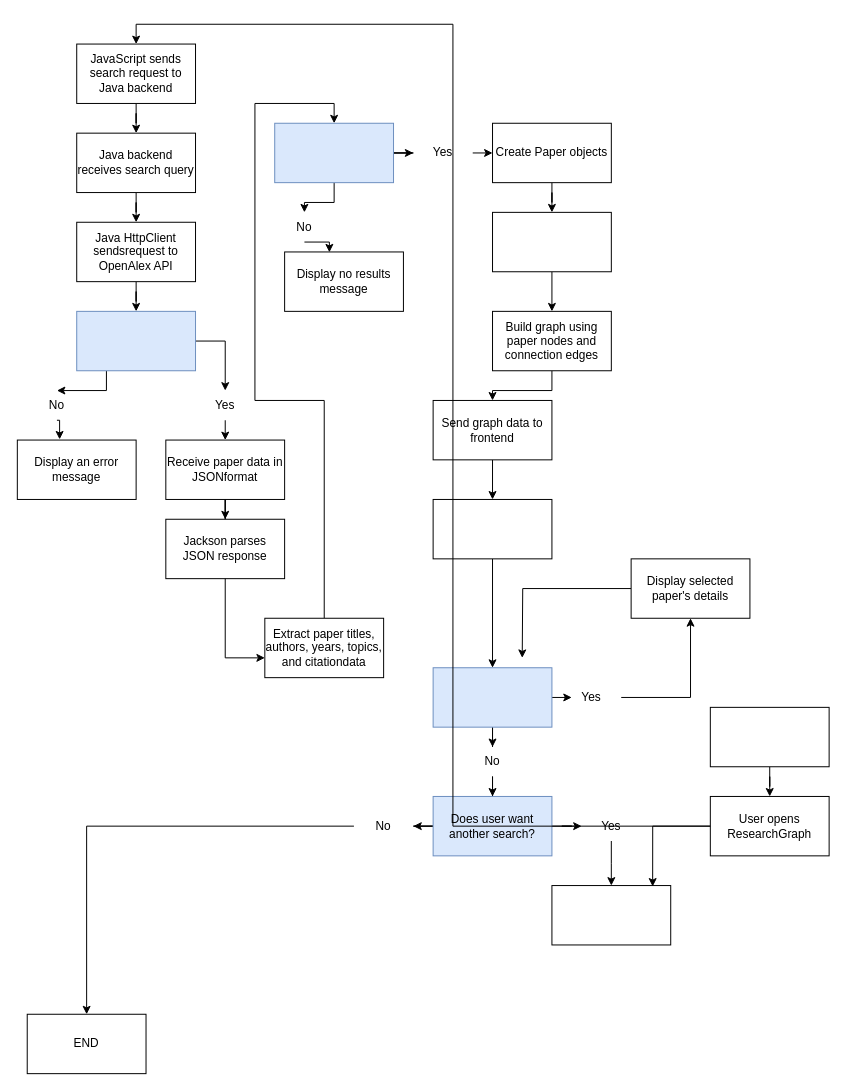
This 846x1091 diagram has some shape labels left out. Each missing label, with the centre of its shape:
Display interactive graphusing vis-network: point (492, 528)
Does user select a paper?: point (492, 697)
Identify relationships between papers: point (551, 241)
START: point (769, 736)
User enters a research topic: point (611, 915)
Was the API request successful?: point (136, 340)
Were any papers found?: point (334, 152)
